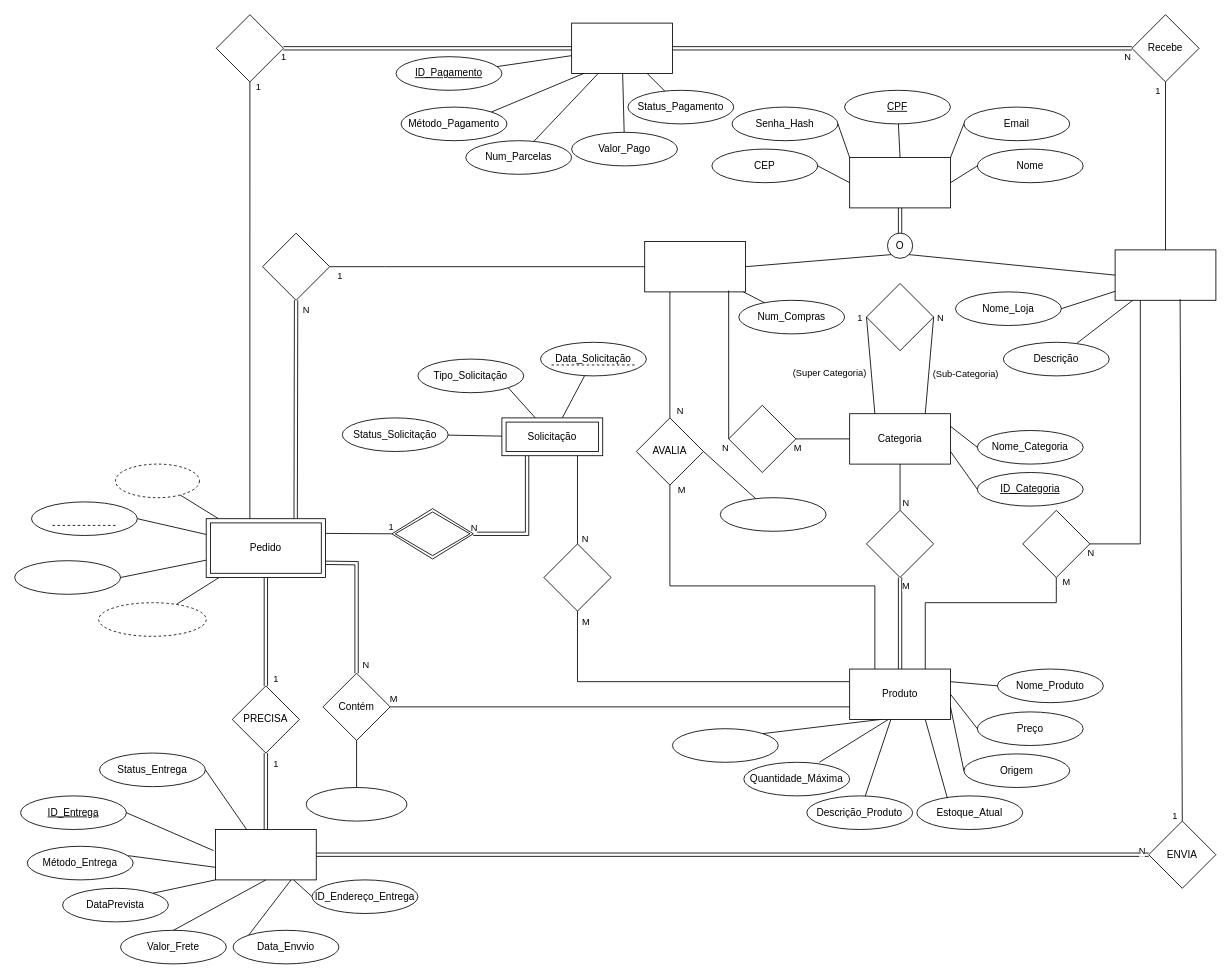
Image size: 1231x979. Some labels were removed from this diagram. Here are the shapes that lost their labels. From the top down, the box of each, then its label:
(215, 14, 284, 82): Paga
(571, 22, 672, 74): Pagamento
(849, 157, 950, 208): Usuario
(262, 232, 330, 300): FAZ
(644, 241, 746, 292): Comprador
(1114, 249, 1216, 300): Vendedor
(866, 283, 934, 351): É PAI DE
(728, 404, 796, 472): PREFERE
(115, 463, 200, 498): Valor_Total
(31, 501, 137, 536): Data_Novo
(391, 508, 473, 559): tem
(719, 497, 826, 531): Nota
(866, 509, 934, 578): PERTENCE
(1022, 509, 1090, 578): VENDE
(14, 560, 121, 594): Status_Pedido
(543, 543, 611, 611): Associa
(98, 602, 206, 636): Valor_Total_Produtos
(672, 728, 778, 762): ID_Produto
(305, 787, 407, 821): Quantidade
(215, 829, 316, 880): Entrega
